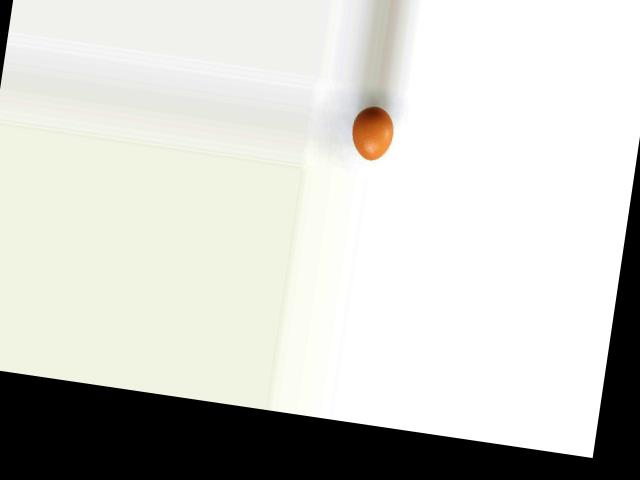egg: (347, 102, 396, 163)
